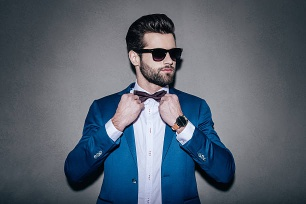male: (124, 20, 186, 87)
